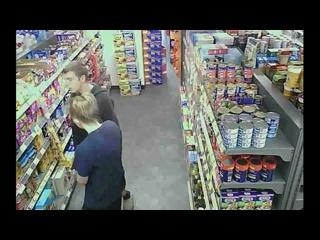Normal: (65, 91, 128, 210), (62, 60, 121, 134)
